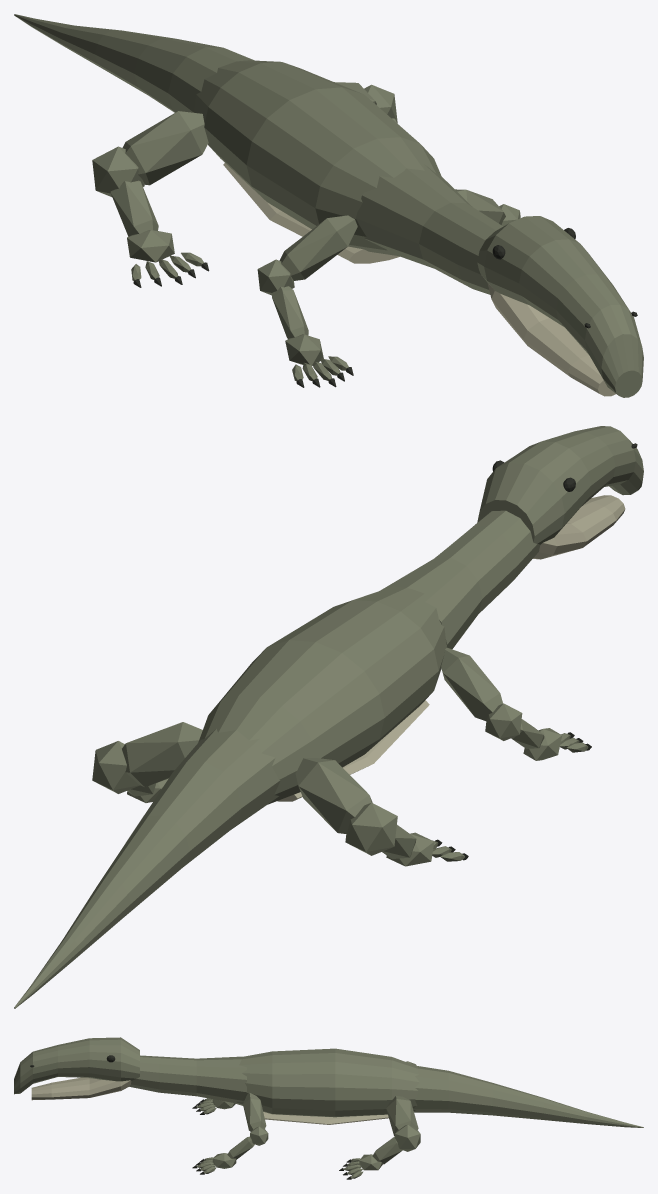
3 renders of one model, top to bottom at view 1: azimuth 30°, elevation 25°; view 2: azimuth 150°, elevation 25°; view 3: azimuth 270°, elevation 25°, orthographic. The views are drawn at different scales.
Parts seen in each view (by area): view 1: surface_grey_olive, surface_pale_underside, surface_eyes_claws; view 2: surface_grey_olive, surface_pale_underside; view 3: surface_grey_olive, surface_pale_underside, surface_eyes_claws.
Boxes of the visible parts, bbox=[...] form: surface_grey_olive: bbox=[14, 14, 643, 397]; surface_pale_underside: bbox=[223, 163, 615, 396]; surface_eyes_claws: bbox=[133, 228, 637, 387]; surface_grey_olive: bbox=[14, 426, 643, 1008]; surface_pale_underside: bbox=[277, 495, 625, 801]; surface_grey_olive: bbox=[14, 1037, 643, 1178]; surface_pale_underside: bbox=[31, 1077, 388, 1124]; surface_eyes_claws: bbox=[30, 1055, 351, 1179].
Bounding box in the file's own units: 0.3138 × 0.174 × 1.
